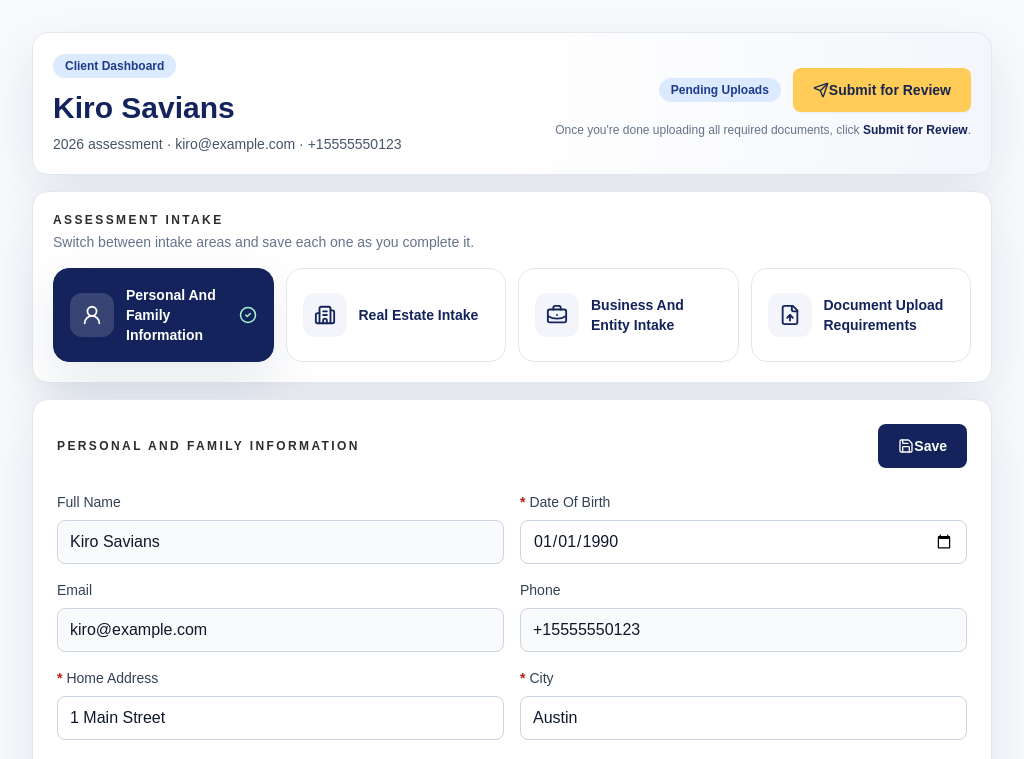
Scenario: PortalDashboardClient › blocks review submission and lists every missing record and document requirement
Click the button "Submit for Review": (882, 90) [793,68,971,112]
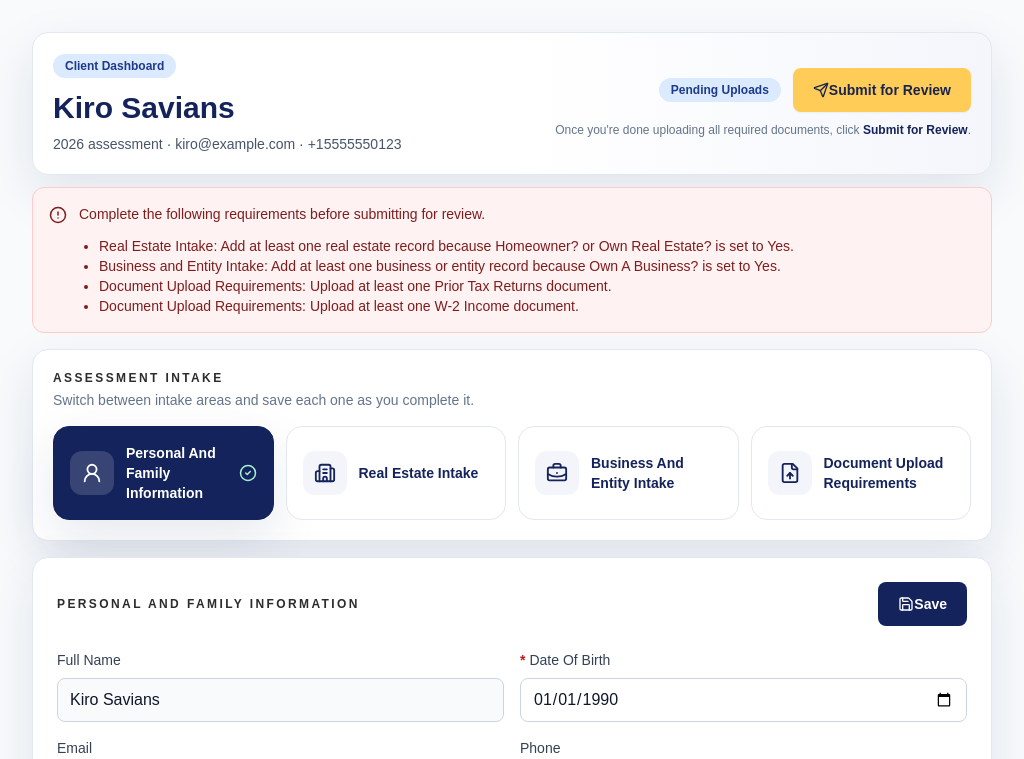
Expected: the text "Complete the following requirements before submitting for review." is shown, [79,206,485,222]
Expected: the list item "Add at least one real estate record" is shown, [220,238,794,254]
Expected: the list item "Add at least one business or entity record" is shown, [271,258,781,274]
